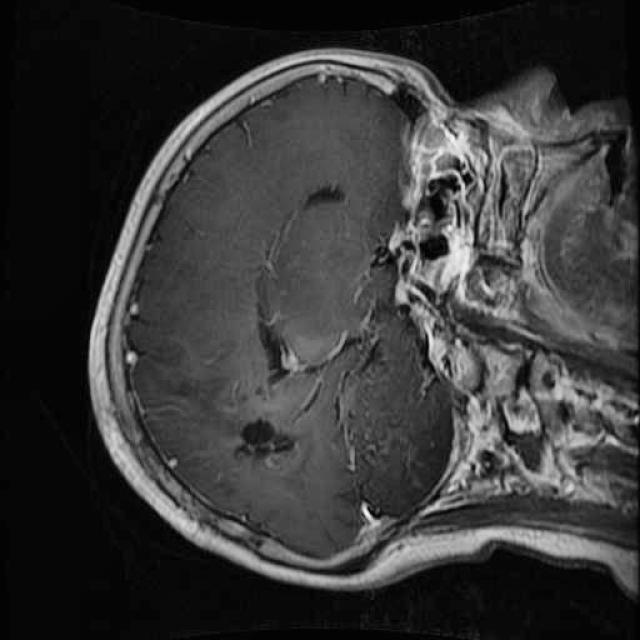Tumor: (209, 384, 335, 496)
